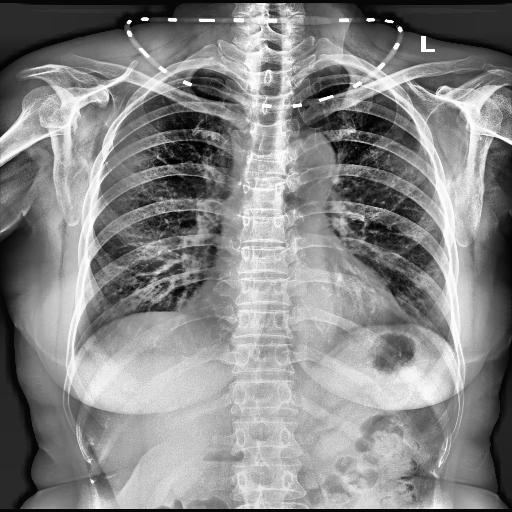0- Aortic enlargement: (274, 128, 336, 190), (278, 128, 336, 184), (278, 132, 338, 182)
3- Cardiomegaly: (184, 271, 396, 335)
